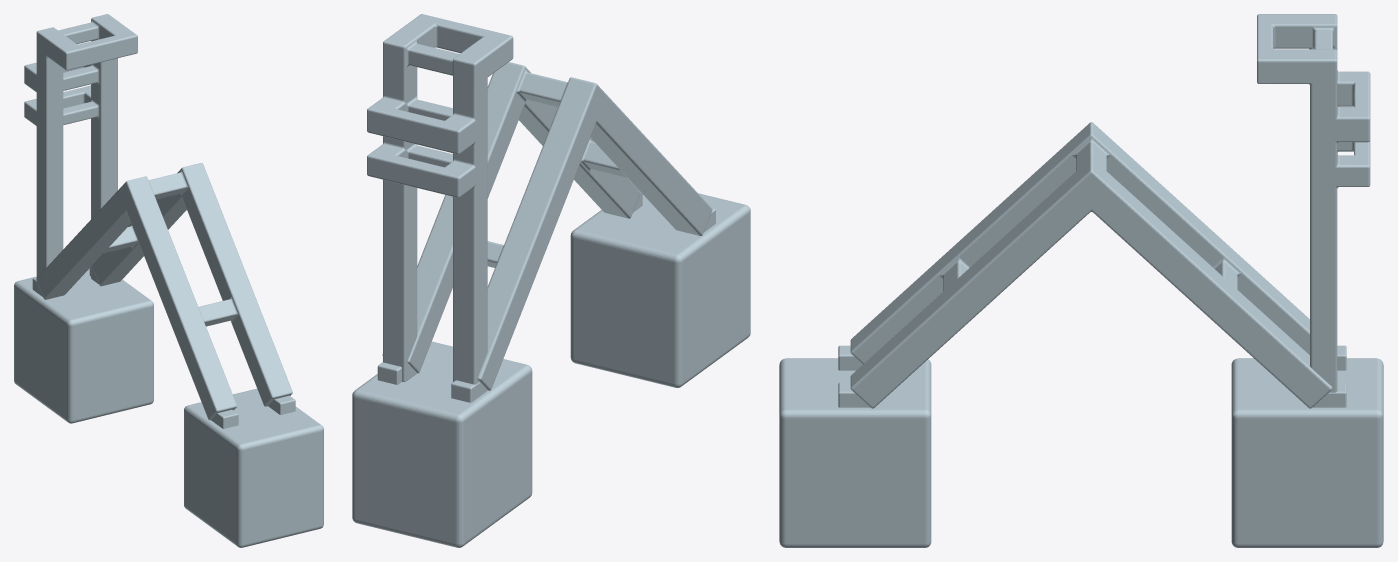
The model's file is MainGate.fbx.
The picture shows the model from 3 angles, left to right: view 1: azimuth 30°, elevation 25°; view 2: azimuth 150°, elevation 25°; view 3: azimuth 270°, elevation 25°; orthographic projection. The views are drawn at different scales.
Visible parts, largest first — view 1: Cube.005, Cube.001, Cube.002, Cube.003; view 2: Cube.005, Cube.002, Cube.001, Cube.003; view 3: Cube.005, Cube.001, Cube.002, Cube.003.
Boxes of the visible parts, box(x1,y1,x2,y2) form: Cube.005: box(14, 268, 323, 547); Cube.001: box(36, 163, 292, 420); Cube.002: box(24, 14, 137, 284); Cube.003: box(32, 267, 295, 428); Cube.005: box(352, 193, 750, 547); Cube.002: box(367, 14, 513, 384); Cube.001: box(382, 62, 712, 390); Cube.003: box(377, 192, 715, 402); Cube.005: box(779, 358, 1383, 547); Cube.001: box(850, 122, 1332, 408); Cube.002: box(1257, 14, 1370, 392); Cube.003: box(838, 345, 1346, 407).
Bounding box in the file's own units: 81.28 × 327 × 369.
